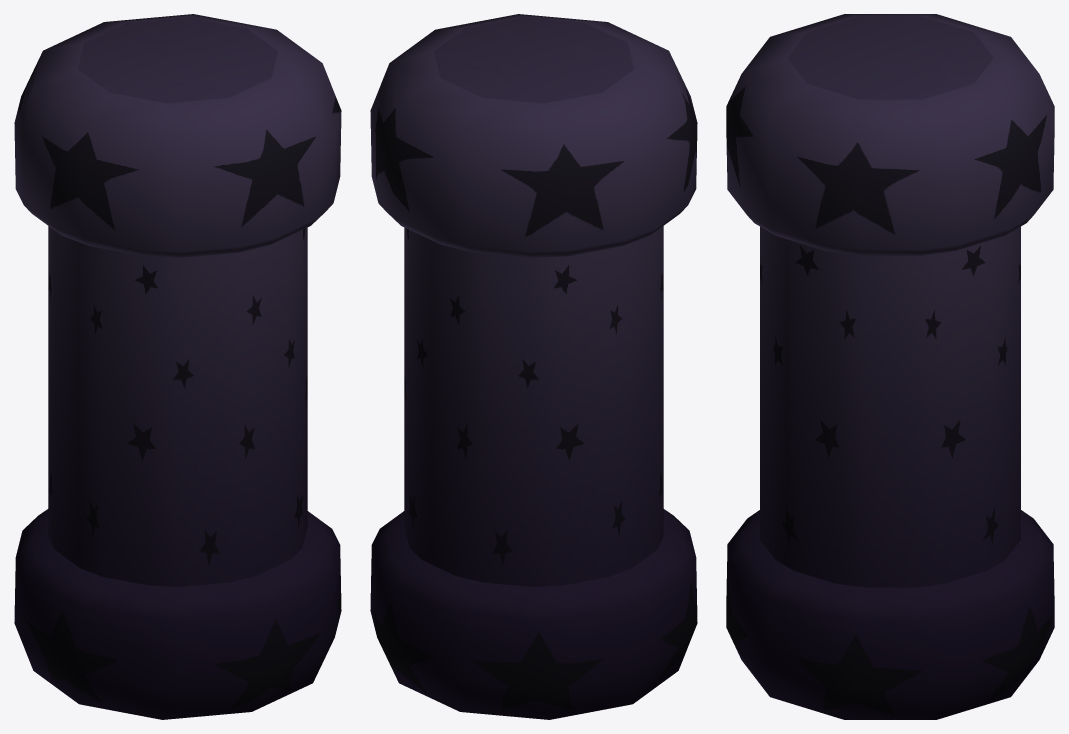
Rendered from PillarDark.glb.
3 renders of one model, left to right at view 1: azimuth 30°, elevation 25°; view 2: azimuth 150°, elevation 25°; view 3: azimuth 270°, elevation 25°, orthographic.
Parts seen in each view (by area): view 1: Cylinder.014; view 2: Cylinder.014; view 3: Cylinder.014.
Part boxes in pixels (x1=…): Cylinder.014: x1=14, y1=14, x2=341, y2=719; Cylinder.014: x1=370, y1=14, x2=697, y2=719; Cylinder.014: x1=726, y1=14, x2=1054, y2=719.
Size of the model in its own units: 5 by 10.4 by 5.06.
Materials: 1 (1 with a texture image).
